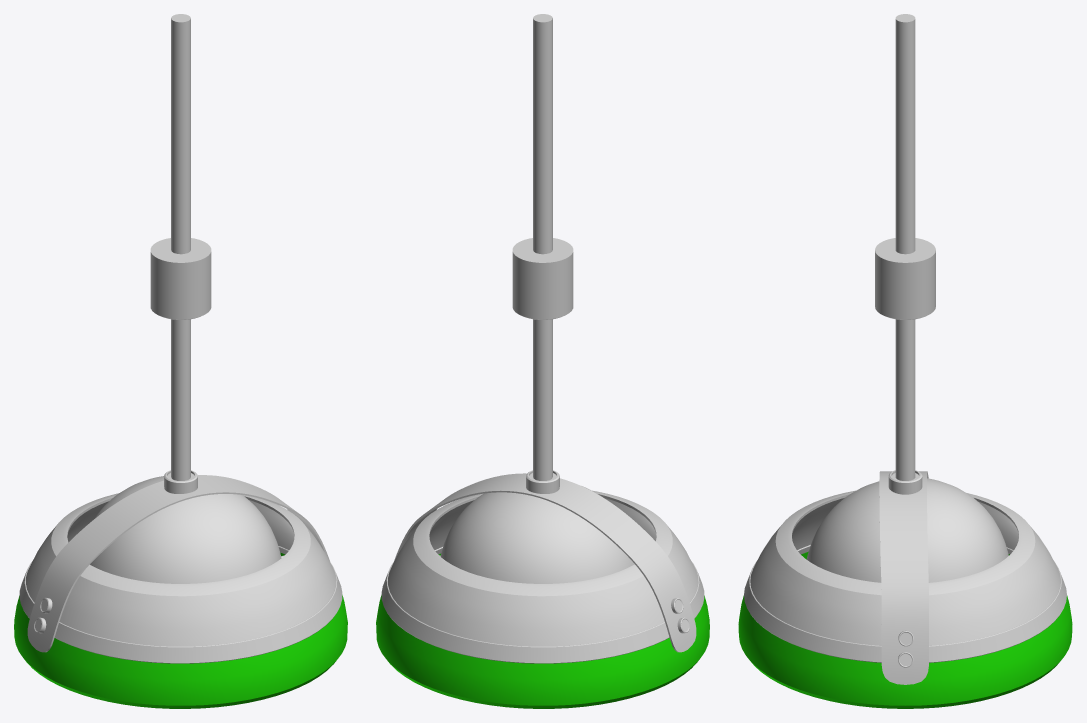
The model's file is Lampara.fbx.
3 renders of one model, left to right at view 1: azimuth 30°, elevation 25°; view 2: azimuth 150°, elevation 25°; view 3: azimuth 270°, elevation 25°, orthographic.
Parts seen in each view (by area): view 1: Cylinder.001, Cylinder.004; view 2: Cylinder.001, Cylinder.004; view 3: Cylinder.001, Cylinder.004.
Part boxes in pixels (<box>): Cylinder.001: <box>14,14,347,708</box>; Cylinder.004: <box>150,238,211,319</box>; Cylinder.001: <box>376,14,709,708</box>; Cylinder.004: <box>512,238,573,319</box>; Cylinder.001: <box>738,14,1072,708</box>; Cylinder.004: <box>875,238,935,319</box>.
Bounding box in the file's own units: 148 × 307 × 148.
